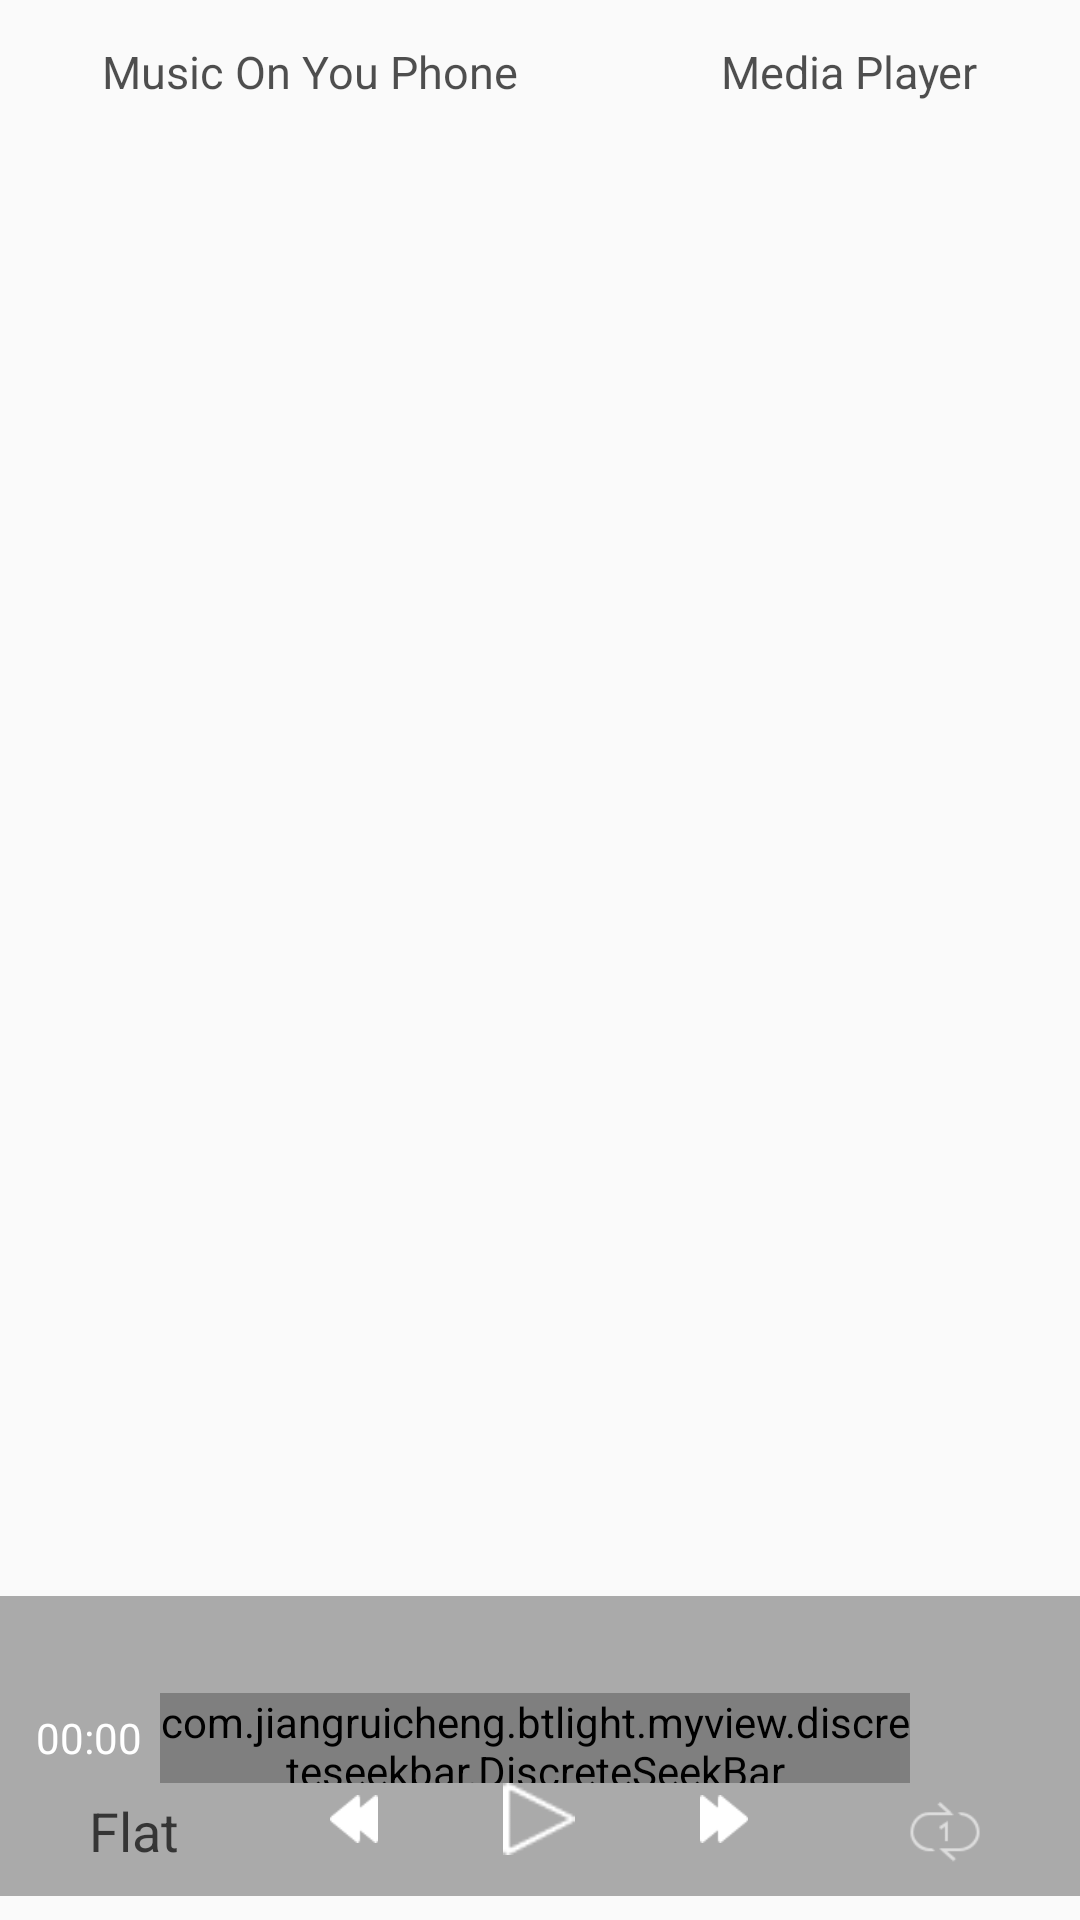

Screen size 1080px×1920px. Icon name, then its center in pixels as (x,y):
next: (724,1819)
play: (539,1819)
prew: (354,1819)
